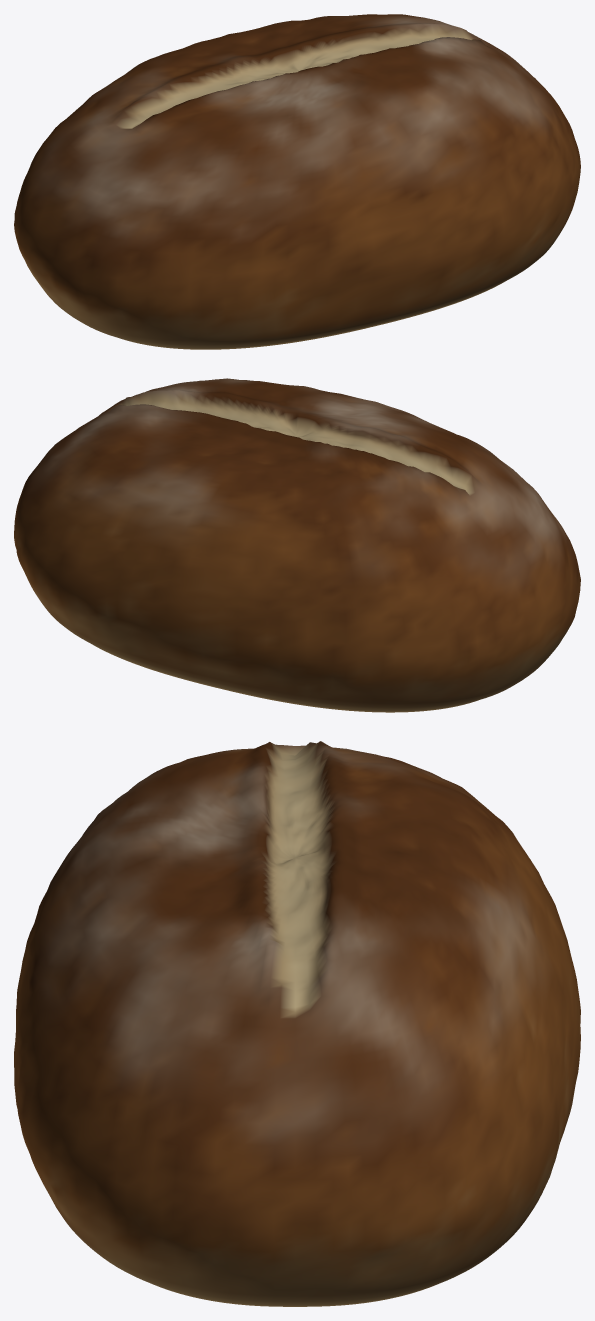
File: hildegard-von-bingen-750g.glb
3 renders of one model, top to bottom at view 1: azimuth 30°, elevation 25°; view 2: azimuth 150°, elevation 25°; view 3: azimuth 270°, elevation 25°, orthographic. The views are drawn at different scales.
Parts seen in each view (by area): view 1: hildegard-von-bingen-750g; view 2: hildegard-von-bingen-750g; view 3: hildegard-von-bingen-750g.
Part boxes in pixels (x1,y1,x2,y2): hildegard-von-bingen-750g: [14, 14, 580, 349]; hildegard-von-bingen-750g: [14, 378, 580, 712]; hildegard-von-bingen-750g: [14, 741, 580, 1306].
Bounding box in the file's own units: 0.2518 × 0.0973 × 0.1602.
